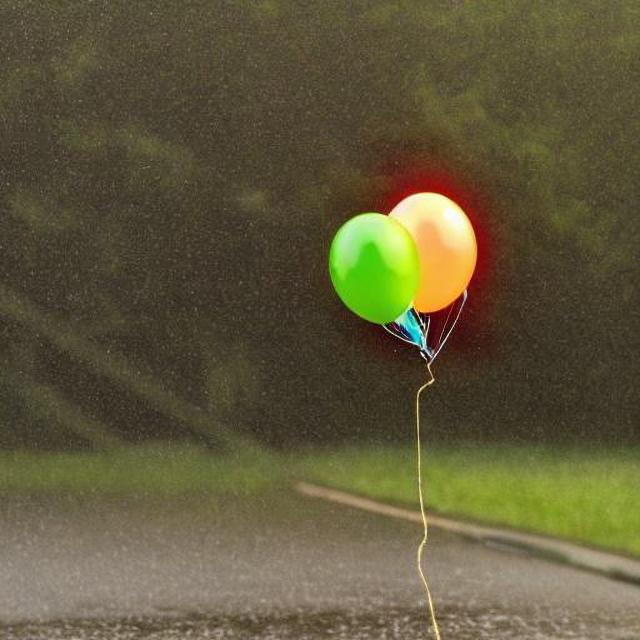balloon: (318, 146, 498, 357), (324, 198, 462, 334)
